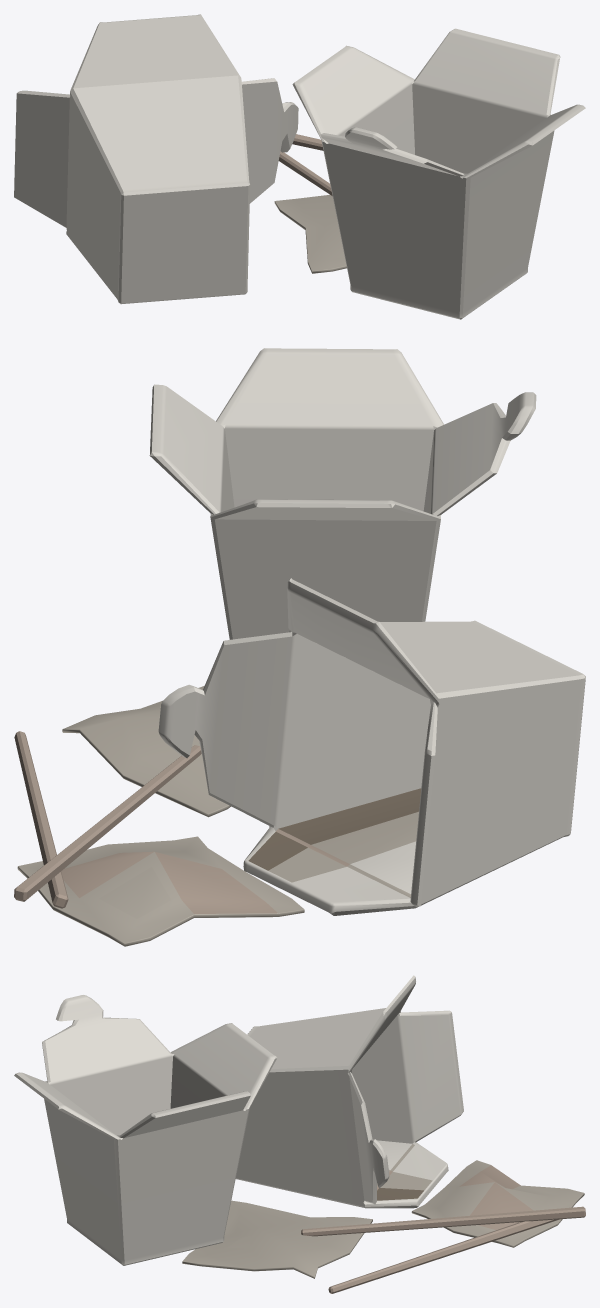
The model's file is Takeout_Rotting.fbx.
The picture shows the model from 3 angles, top to bottom: view 1: azimuth 30°, elevation 25°; view 2: azimuth 150°, elevation 25°; view 3: azimuth 270°, elevation 25°; orthographic projection. The views are drawn at different scales.
Parts seen in each view (by area): view 1: pasted__polySurface11; view 2: pasted__polySurface11; view 3: pasted__polySurface11.
Boxes of the visible parts, x1,y1,x2,y2 form: pasted__polySurface11: [14, 14, 585, 319]; pasted__polySurface11: [14, 348, 585, 946]; pasted__polySurface11: [14, 975, 585, 1293].
Size of the model in its own units: 1.07 by 0.5896 by 1.53.
